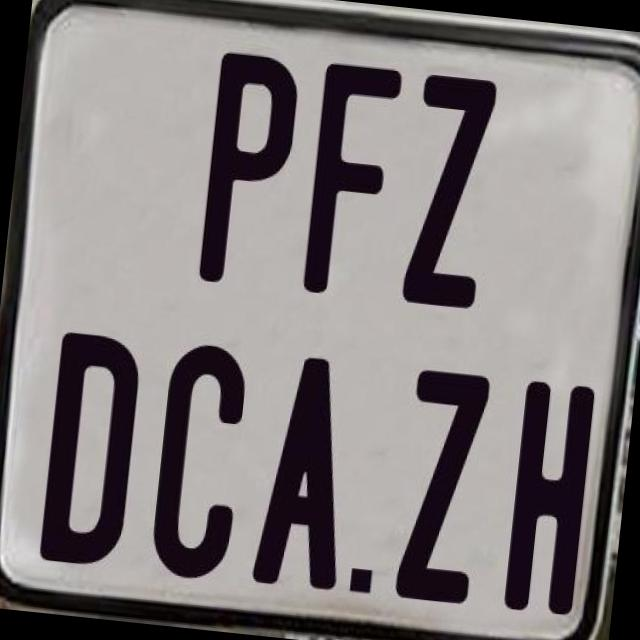A: (248, 350, 360, 587)
C: (148, 336, 258, 582)
D: (36, 328, 144, 564)
F: (302, 56, 404, 298)
H: (498, 379, 592, 616)
P: (198, 49, 309, 288)
Z: (389, 368, 492, 609), (399, 70, 502, 308)
